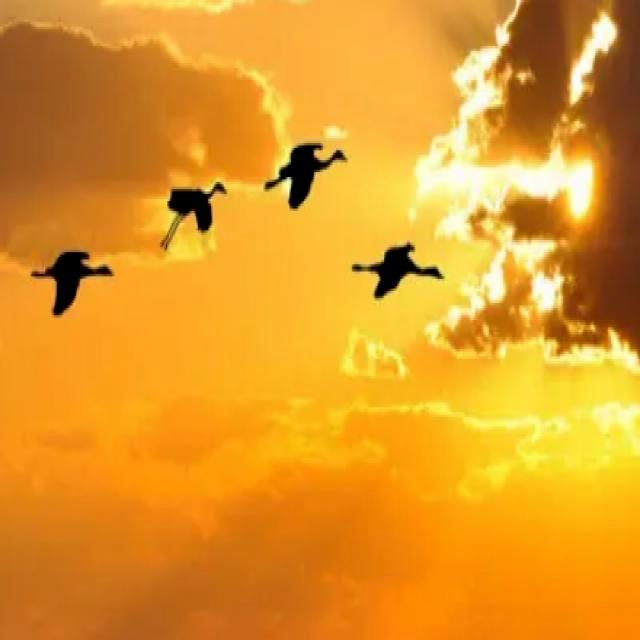bird: (264, 143, 348, 211), (30, 252, 114, 318), (352, 244, 444, 300), (158, 182, 228, 250)
